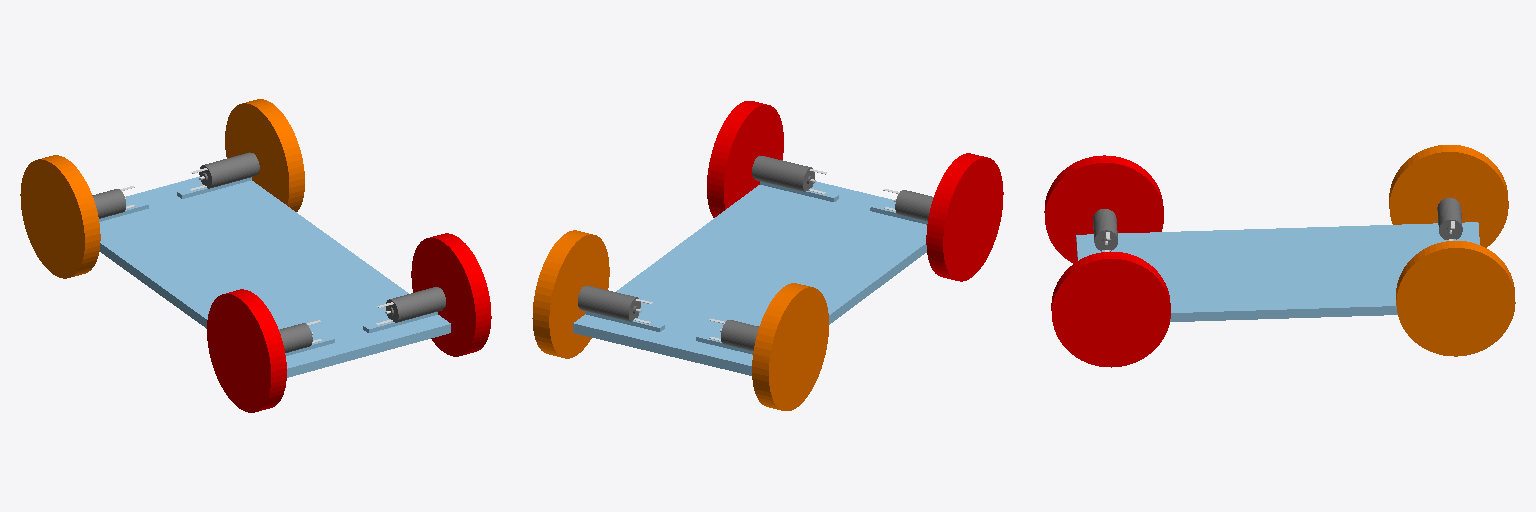
robot.urdf — embr_simple:
<!--URDF generated by ONSHAPE BY PTC INC, 1.219-->
<robot name="embr_simple">
    <link name="embr_simple_chasis">
        <inertial>
            <mass value="0.000102334" />
            <origin xyz="0.00208133 6.46649e-20 0.00256191" rpy="0 -0 0" />
            <inertia ixx="3.57052e-07" ixy="0" ixz="0" iyy="8.47398e-08" iyz="0" izz="4.41326e-07" />
        </inertial>
        <visual>
            <origin xyz="0 0 0" rpy="0 -0 0" />
            <geometry>
                <mesh filename="package://embr_description/meshes/embr_simple/meshes/EMBR_Simple_Chasis.stl" scale="1 1 1" />
            </geometry>
            <material name="0.615686_0.811765_0.929412_0.000000_0.000000">
                <color rgba="0.615686 0.811765 0.929412 1" />
            </material>
        </visual>
    </link>
    <link name="maxon_body">
        <inertial>
            <mass value="3.13126e-06" />
            <origin xyz="-5.23054e-21 -0.0137337 1.44272e-19" rpy="0 -0 0" />
            <inertia ixx="2.28351e-10" ixy="0" ixz="0" iyy="5.57578e-11" iyz="0" izz="2.28351e-10" />
        </inertial>
        <visual>
            <origin xyz="0 -0.0133 -3.52086e-19" rpy="0 -0 0" />
            <geometry>
                <mesh filename="package://embr_description/meshes/embr_simple/meshes/Maxon_Body.stl" scale="1 1 1" />
            </geometry>
            <material name="0.501961_0.501961_0.501961_0.000000_0.000000">
                <color rgba="0.501961 0.501961 0.501961 1" />
            </material>
        </visual>
    </link>
    <link name="maxon_body_1">
        <inertial>
            <mass value="3.13126e-06" />
            <origin xyz="-5.23054e-21 -0.0137337 1.44272e-19" rpy="0 -0 0" />
            <inertia ixx="2.28351e-10" ixy="0" ixz="0" iyy="5.57578e-11" iyz="0" izz="2.28351e-10" />
        </inertial>
        <visual>
            <origin xyz="0 -0.0133 -3.52086e-19" rpy="0 -0 0" />
            <geometry>
                <mesh filename="package://embr_description/meshes/embr_simple/meshes/Maxon_Body.stl" scale="1 1 1" />
            </geometry>
            <material name="0.501961_0.501961_0.501961_0.000000_0.000000">
                <color rgba="0.501961 0.501961 0.501961 1" />
            </material>
        </visual>
    </link>
    <link name="maxon_body_2">
        <inertial>
            <mass value="3.13126e-06" />
            <origin xyz="-5.23054e-21 -0.0137337 1.44272e-19" rpy="0 -0 0" />
            <inertia ixx="2.28351e-10" ixy="0" ixz="0" iyy="5.57578e-11" iyz="0" izz="2.28351e-10" />
        </inertial>
        <visual>
            <origin xyz="0 -0.0133 -3.52086e-19" rpy="0 -0 0" />
            <geometry>
                <mesh filename="package://embr_description/meshes/embr_simple/meshes/Maxon_Body.stl" scale="1 1 1" />
            </geometry>
            <material name="0.501961_0.501961_0.501961_0.000000_0.000000">
                <color rgba="0.501961 0.501961 0.501961 1" />
            </material>
        </visual>
    </link>
    <link name="maxon_body_3">
        <inertial>
            <mass value="3.13126e-06" />
            <origin xyz="-5.23054e-21 -0.0137337 1.44272e-19" rpy="0 -0 0" />
            <inertia ixx="2.28351e-10" ixy="0" ixz="0" iyy="5.57578e-11" iyz="0" izz="2.28351e-10" />
        </inertial>
        <visual>
            <origin xyz="0 -0.0133 -3.52086e-19" rpy="0 -0 0" />
            <geometry>
                <mesh filename="package://embr_description/meshes/embr_simple/meshes/Maxon_Body.stl" scale="1 1 1" />
            </geometry>
            <material name="0.501961_0.501961_0.501961_0.000000_0.000000">
                <color rgba="0.501961 0.501961 0.501961 1" />
            </material>
        </visual>
    </link>
    <link name="maxon_shaft">
        <inertial>
            <mass value="7.23207e-08" />
            <origin xyz="-3.60766e-07 -0.0204633 6.54155e-07" rpy="0 1.34048 0" />
            <inertia ixx="1.01063e-11" ixy="0" ixz="0" iyy="2.03495e-14" iyz="0" izz="1.01063e-11" />
        </inertial>
        <visual>
            <origin xyz="-8.85289e-19 -0.0206 -2.07583e-19" rpy="0 1.34048 0" />
            <geometry>
                <mesh filename="package://embr_description/meshes/embr_simple/meshes/Maxon_Shaft.stl" scale="1 1 1" />
            </geometry>
            <material name="0.901961_0.901961_0.901961_0.000000_0.000000">
                <color rgba="0.901961 0.901961 0.901961 1" />
            </material>
        </visual>
    </link>
    <link name="maxon_shaft_1">
        <inertial>
            <mass value="7.23207e-08" />
            <origin xyz="-3.60766e-07 -0.0204633 6.54155e-07" rpy="0 1.34048 0" />
            <inertia ixx="1.01063e-11" ixy="0" ixz="0" iyy="2.03495e-14" iyz="0" izz="1.01063e-11" />
        </inertial>
        <visual>
            <origin xyz="-8.85289e-19 -0.0206 -2.07583e-19" rpy="0 1.34048 0" />
            <geometry>
                <mesh filename="package://embr_description/meshes/embr_simple/meshes/Maxon_Shaft.stl" scale="1 1 1" />
            </geometry>
            <material name="0.901961_0.901961_0.901961_0.000000_0.000000">
                <color rgba="0.901961 0.901961 0.901961 1" />
            </material>
        </visual>
    </link>
    <link name="maxon_shaft_2">
        <inertial>
            <mass value="7.23207e-08" />
            <origin xyz="-3.60766e-07 -0.0204633 6.54155e-07" rpy="0 1.34048 0" />
            <inertia ixx="1.01063e-11" ixy="0" ixz="0" iyy="2.03495e-14" iyz="0" izz="1.01063e-11" />
        </inertial>
        <visual>
            <origin xyz="-8.85289e-19 -0.0206 -2.07583e-19" rpy="0 1.34048 0" />
            <geometry>
                <mesh filename="package://embr_description/meshes/embr_simple/meshes/Maxon_Shaft.stl" scale="1 1 1" />
            </geometry>
            <material name="0.901961_0.901961_0.901961_0.000000_0.000000">
                <color rgba="0.901961 0.901961 0.901961 1" />
            </material>
        </visual>
    </link>
    <link name="maxon_shaft_3">
        <inertial>
            <mass value="7.23207e-08" />
            <origin xyz="-3.60766e-07 -0.0204633 6.54155e-07" rpy="0 1.34048 0" />
            <inertia ixx="1.01063e-11" ixy="0" ixz="0" iyy="2.03495e-14" iyz="0" izz="1.01063e-11" />
        </inertial>
        <visual>
            <origin xyz="-8.85289e-19 -0.0206 -2.07583e-19" rpy="0 1.34048 0" />
            <geometry>
                <mesh filename="package://embr_description/meshes/embr_simple/meshes/Maxon_Shaft.stl" scale="1 1 1" />
            </geometry>
            <material name="0.901961_0.901961_0.901961_0.000000_0.000000">
                <color rgba="0.901961 0.901961 0.901961 1" />
            </material>
        </visual>
    </link>
    <link name="maxon_tab_left">
        <inertial>
            <mass value="3.48e-09" />
            <origin xyz="0.0001 0.00435 3.25261e-19" rpy="0 -0 0" />
            <inertia ixx="2.31101e-14" ixy="0" ixz="0" iyy="1.1716e-15" iyz="0" izz="2.19617e-14" />
        </inertial>
        <visual>
            <origin xyz="0.0047 -0.0133 3.25261e-19" rpy="0 -0 0" />
            <geometry>
                <mesh filename="package://embr_description/meshes/embr_simple/meshes/Maxon_Tab_Left.stl" scale="1 1 1" />
            </geometry>
            <material name="0.917647_0.917647_0.917647_0.000000_0.000000">
                <color rgba="0.917647 0.917647 0.917647 1" />
            </material>
        </visual>
    </link>
    <link name="maxon_tab_left_1">
        <inertial>
            <mass value="3.48e-09" />
            <origin xyz="0.0001 0.00435 3.25261e-19" rpy="0 -0 0" />
            <inertia ixx="2.31101e-14" ixy="0" ixz="0" iyy="1.1716e-15" iyz="0" izz="2.19617e-14" />
        </inertial>
        <visual>
            <origin xyz="0.0047 -0.0133 3.25261e-19" rpy="0 -0 0" />
            <geometry>
                <mesh filename="package://embr_description/meshes/embr_simple/meshes/Maxon_Tab_Left.stl" scale="1 1 1" />
            </geometry>
            <material name="0.917647_0.917647_0.917647_0.000000_0.000000">
                <color rgba="0.917647 0.917647 0.917647 1" />
            </material>
        </visual>
    </link>
    <link name="maxon_tab_left_2">
        <inertial>
            <mass value="3.48e-09" />
            <origin xyz="0.0001 0.00435 3.25261e-19" rpy="0 -0 0" />
            <inertia ixx="2.31101e-14" ixy="0" ixz="0" iyy="1.1716e-15" iyz="0" izz="2.19617e-14" />
        </inertial>
        <visual>
            <origin xyz="0.0047 -0.0133 3.25261e-19" rpy="0 -0 0" />
            <geometry>
                <mesh filename="package://embr_description/meshes/embr_simple/meshes/Maxon_Tab_Left.stl" scale="1 1 1" />
            </geometry>
            <material name="0.917647_0.917647_0.917647_0.000000_0.000000">
                <color rgba="0.917647 0.917647 0.917647 1" />
            </material>
        </visual>
    </link>
    <link name="maxon_tab_left_3">
        <inertial>
            <mass value="3.48e-09" />
            <origin xyz="0.0001 0.00435 3.25261e-19" rpy="0 -0 0" />
            <inertia ixx="2.31101e-14" ixy="0" ixz="0" iyy="1.1716e-15" iyz="0" izz="2.19617e-14" />
        </inertial>
        <visual>
            <origin xyz="0.0047 -0.0133 3.25261e-19" rpy="0 -0 0" />
            <geometry>
                <mesh filename="package://embr_description/meshes/embr_simple/meshes/Maxon_Tab_Left.stl" scale="1 1 1" />
            </geometry>
            <material name="0.917647_0.917647_0.917647_0.000000_0.000000">
                <color rgba="0.917647 0.917647 0.917647 1" />
            </material>
        </visual>
    </link>
    <link name="maxon_tab_right">
        <inertial>
            <mass value="3.48e-09" />
            <origin xyz="-0.0001 0.00435 0.001" rpy="0 -0 0" />
            <inertia ixx="2.31101e-14" ixy="0" ixz="0" iyy="1.1716e-15" iyz="0" izz="2.19617e-14" />
        </inertial>
        <visual>
            <origin xyz="-0.0047 -0.0133 0.001" rpy="0 -0 0" />
            <geometry>
                <mesh filename="package://embr_description/meshes/embr_simple/meshes/Maxon_Tab_Right.stl" scale="1 1 1" />
            </geometry>
            <material name="0.917647_0.917647_0.917647_0.000000_0.000000">
                <color rgba="0.917647 0.917647 0.917647 1" />
            </material>
        </visual>
    </link>
    <link name="maxon_tab_right_1">
        <inertial>
            <mass value="3.48e-09" />
            <origin xyz="-0.0001 0.00435 0.001" rpy="0 -0 0" />
            <inertia ixx="2.31101e-14" ixy="0" ixz="0" iyy="1.1716e-15" iyz="0" izz="2.19617e-14" />
        </inertial>
        <visual>
            <origin xyz="-0.0047 -0.0133 0.001" rpy="0 -0 0" />
            <geometry>
                <mesh filename="package://embr_description/meshes/embr_simple/meshes/Maxon_Tab_Right.stl" scale="1 1 1" />
            </geometry>
            <material name="0.917647_0.917647_0.917647_0.000000_0.000000">
                <color rgba="0.917647 0.917647 0.917647 1" />
            </material>
        </visual>
    </link>
    <link name="maxon_tab_right_2">
        <inertial>
            <mass value="3.48e-09" />
            <origin xyz="-0.0001 0.00435 0.001" rpy="0 -0 0" />
            <inertia ixx="2.31101e-14" ixy="0" ixz="0" iyy="1.1716e-15" iyz="0" izz="2.19617e-14" />
        </inertial>
        <visual>
            <origin xyz="-0.0047 -0.0133 0.001" rpy="0 -0 0" />
            <geometry>
                <mesh filename="package://embr_description/meshes/embr_simple/meshes/Maxon_Tab_Right.stl" scale="1 1 1" />
            </geometry>
            <material name="0.917647_0.917647_0.917647_0.000000_0.000000">
                <color rgba="0.917647 0.917647 0.917647 1" />
            </material>
        </visual>
    </link>
    <link name="maxon_tab_right_3">
        <inertial>
            <mass value="3.48e-09" />
            <origin xyz="-0.0001 0.00435 0.001" rpy="0 -0 0" />
            <inertia ixx="2.31101e-14" ixy="0" ixz="0" iyy="1.1716e-15" iyz="0" izz="2.19617e-14" />
        </inertial>
        <visual>
            <origin xyz="-0.0047 -0.0133 0.001" rpy="0 -0 0" />
            <geometry>
                <mesh filename="package://embr_description/meshes/embr_simple/meshes/Maxon_Tab_Right.stl" scale="1 1 1" />
            </geometry>
            <material name="0.917647_0.917647_0.917647_0.000000_0.000000">
                <color rgba="0.917647 0.917647 0.917647 1" />
            </material>
        </visual>
    </link>
    <link name="root" />
    <link name="wheel">
        <inertial>
            <mass value="2.54469e-05" />
            <origin xyz="-2.99577e-19 0.0045 7.78294e-19" rpy="0 -0 0" />
            <inertia ixx="5.89732e-09" ixy="0" ixz="0" iyy="1.14511e-08" iyz="0" izz="5.89732e-09" />
        </inertial>
        <visual>
            <origin xyz="0 0.009 -1.83697e-18" rpy="0 -0 0" />
            <geometry>
                <mesh filename="package://embr_description/meshes/embr_simple/meshes/Wheel.stl" scale="1 1 1" />
            </geometry>
            <material name="back_wheel_orange">
                <color rgba="1 0.5 0 1" />
            </material>
        </visual>
    </link>
    <link name="wheel_1">
        <inertial>
            <mass value="2.54469e-05" />
            <origin xyz="-2.99577e-19 0.0045 7.78294e-19" rpy="0 -0 0" />
            <inertia ixx="5.89732e-09" ixy="0" ixz="0" iyy="1.14511e-08" iyz="0" izz="5.89732e-09" />
        </inertial>
        <visual>
            <origin xyz="0 0.009 -1.83697e-18" rpy="0 -0 0" />
            <geometry>
                <mesh filename="package://embr_description/meshes/embr_simple/meshes/Wheel.stl" scale="1 1 1" />
            </geometry>
            <material name="back_wheel_orange">
                <color rgba="1 0.5 0 1" />
            </material>
        </visual>
    </link>
    <link name="wheel_2">
        <inertial>
            <mass value="2.54469e-05" />
            <origin xyz="-2.99577e-19 0.0045 7.78294e-19" rpy="0 -0 0" />
            <inertia ixx="5.89732e-09" ixy="0" ixz="0" iyy="1.14511e-08" iyz="0" izz="5.89732e-09" />
        </inertial>
        <visual>
            <origin xyz="0 0.009 -1.83697e-18" rpy="0 -0 0" />
            <geometry>
                <mesh filename="package://embr_description/meshes/embr_simple/meshes/Wheel.stl" scale="1 1 1" />
            </geometry>
            <material name="front_wheel_red">
                <color rgba="1 0 0 1" />
            </material>
        </visual>
    </link>
    <link name="wheel_3">
        <inertial>
            <mass value="2.54469e-05" />
            <origin xyz="-2.99577e-19 0.0045 7.78294e-19" rpy="0 -0 0" />
            <inertia ixx="5.89732e-09" ixy="0" ixz="0" iyy="1.14511e-08" iyz="0" izz="5.89732e-09" />
        </inertial>
        <visual>
            <origin xyz="0 0.009 -1.83697e-18" rpy="0 -0 0" />
            <geometry>
                <mesh filename="package://embr_description/meshes/embr_simple/meshes/Wheel.stl" scale="1 1 1" />
            </geometry>
            <material name="front_wheel_red">
                <color rgba="1 0 0 1" />
            </material>
        </visual>
    </link>
    <joint name="fastened_1" type="fixed">
        <origin xyz="-0.0225927 0.0867344 0.0122" rpy="0 -1.5708 -1.5708" />
        <axis xyz="0 1 0" />
        <parent link="embr_simple_chasis" />
        <child link="maxon_body_3" />
    </joint>
    <joint name="fastened_2" type="fixed">
        <origin xyz="0.0267554 0.0867344 0.0122" rpy="0 -1.5708 1.5708" />
        <axis xyz="0 1 0" />
        <parent link="embr_simple_chasis" />
        <child link="maxon_body_2" />
    </joint>
    <joint name="fastened_3" type="fixed">
        <origin xyz="0.0267554 -0.0867344 0.0122" rpy="0 -1.5708 1.5708" />
        <axis xyz="0 1 0" />
        <parent link="embr_simple_chasis" />
        <child link="maxon_body_1" />
    </joint>
    <joint name="fastened_4" type="fixed">
        <origin xyz="-0.0225927 -0.0867344 0.0122" rpy="0 -1.5708 -1.5708" />
        <axis xyz="0 1 0" />
        <parent link="embr_simple_chasis" />
        <child link="maxon_body" />
    </joint>
    <joint name="fixed_node_to_root_joint" type="fixed">
        <origin xyz="-0.0521915 0.198476 -0.0944215" rpy="-0.0211084 0.0124172 -3.11206" />
        <axis xyz="0 0 1" />
        <parent link="root" />
        <child link="embr_simple_chasis" />
    </joint>
    <joint name="left_tab_fastener" type="fixed">
        <origin xyz="-0.005 0 1.11022e-16" rpy="3.55889e-16 -3.90486e-15 -1.7434e-16" />
        <axis xyz="0 -1 0" />
        <parent link="maxon_body_1" />
        <child link="maxon_tab_left_1" />
    </joint>
    <joint name="left_tab_fastener_1" type="fixed">
        <origin xyz="-0.005 -6.93889e-18 -5.55112e-17" rpy="5.47522e-16 2.1684e-16 1.13624e-16" />
        <axis xyz="0 -1 0" />
        <parent link="maxon_body" />
        <child link="maxon_tab_left" />
    </joint>
    <joint name="left_tab_fastener_2" type="fixed">
        <origin xyz="-0.005 -1.38778e-17 4.16334e-17" rpy="-1.23274e-16 1.43982e-16 -7.97973e-17" />
        <axis xyz="0 -1 0" />
        <parent link="maxon_body_2" />
        <child link="maxon_tab_left_2" />
    </joint>
    <joint name="left_tab_fastener_3" type="fixed">
        <origin xyz="-0.005 -8.32667e-17 -1.38778e-17" rpy="1.11708e-15 -1.03043e-15 -6.245e-16" />
        <axis xyz="0 -1 0" />
        <parent link="maxon_body_3" />
        <child link="maxon_tab_left_3" />
    </joint>
    <joint name="right_tab_fastener" type="fixed">
        <origin xyz="0.005 4.16334e-17 0" rpy="3.55889e-16 -3.90486e-15 -1.7434e-16" />
        <axis xyz="0 -1 0" />
        <parent link="maxon_body_1" />
        <child link="maxon_tab_right_1" />
    </joint>
    <joint name="right_tab_fastener_1" type="fixed">
        <origin xyz="0.005 -6.93889e-18 -1.11022e-16" rpy="5.47522e-16 2.1684e-16 1.13624e-16" />
        <axis xyz="0 -1 0" />
        <parent link="maxon_body" />
        <child link="maxon_tab_right" />
    </joint>
    <joint name="right_tab_fastener_2" type="fixed">
        <origin xyz="0.005 0 4.16334e-17" rpy="-1.23274e-16 1.43982e-16 -7.97973e-17" />
        <axis xyz="0 -1 0" />
        <parent link="maxon_body_2" />
        <child link="maxon_tab_right_2" />
    </joint>
    <joint name="right_tab_fastener_3" type="fixed">
        <origin xyz="0.005 -1.04083e-16 -1.38778e-17" rpy="1.11708e-15 -1.03043e-15 -6.245e-16" />
        <axis xyz="0 -1 0" />
        <parent link="maxon_body_3" />
        <child link="maxon_tab_right_3" />
    </joint>
    <joint name="shaft_dof" type="continuous">
        <origin xyz="-2.77556e-17 -0.0376 1.11022e-16" rpy="-3.14159 1.52785 5.45973e-15" />
        <axis xyz="0 1 0" />
        <parent link="maxon_body_1" />
        <child link="maxon_shaft_1" />
    </joint>
    <joint name="shaft_dof_1" type="continuous">
        <origin xyz="-1.38778e-17 -0.0376 0" rpy="0 1.5708 3.14159" />
        <axis xyz="0 1 0" />
        <parent link="maxon_body" />
        <child link="maxon_shaft" />
    </joint>
    <joint name="shaft_dof_2" type="continuous">
        <origin xyz="0 -0.0376 4.16334e-17" rpy="3.14159 1.52785 -4.69359e-15" />
        <axis xyz="0 1 0" />
        <parent link="maxon_body_2" />
        <child link="maxon_shaft_2" />
    </joint>
    <joint name="shaft_dof_3" type="continuous">
        <origin xyz="-2.77556e-17 -0.0376 -1.38778e-17" rpy="0 1.5708 3.14159" />
        <axis xyz="0 1 0" />
        <parent link="maxon_body_3" />
        <child link="maxon_shaft_3" />
    </joint>
    <joint name="wheel_shaft" type="fixed">
        <origin xyz="5.55112e-17 0.001 -1.38778e-17" rpy="3.0271e-19 0.23032 -3.14159" />
        <axis xyz="0 -1 0" />
        <parent link="maxon_shaft_1" />
        <child link="wheel_1" />
    </joint>
    <joint name="wheel_shaft_1" type="fixed">
        <origin xyz="5.55112e-17 0.001 -1.38778e-17" rpy="-2.89829e-20 0.23032 3.14159" />
        <axis xyz="0 -1 0" />
        <parent link="maxon_shaft" />
        <child link="wheel" />
    </joint>
    <joint name="wheel_shaft_2" type="fixed">
        <origin xyz="0 0.001 1.38778e-17" rpy="-2.2294e-18 0.23032 3.14159" />
        <axis xyz="0 -1 0" />
        <parent link="maxon_shaft_2" />
        <child link="wheel_2" />
    </joint>
    <joint name="wheel_shaft_3" type="fixed">
        <origin xyz="-1.38778e-17 0.001 0" rpy="-9.24232e-19 0.23032 3.14159" />
        <axis xyz="0 -1 0" />
        <parent link="maxon_shaft_3" />
        <child link="wheel_3" />
    </joint>
</robot>

--- Facts derived from the render (not from the file) ---
3 views of the same robot in one strip: view 1: azimuth 30°, elevation 25°; view 2: azimuth 150°, elevation 25°; view 3: azimuth 270°, elevation 25° (orthographic).
Robot: embr_simple — 22 links, 21 joints (4 continuous, 17 fixed); root link root; default pose: every joint at zero.
Visible links, largest first — view 1: embr_simple_chasis, wheel_2, wheel_1, wheel_3, wheel, maxon_body_3, maxon_body, maxon_body_1, maxon_body_2; view 2: embr_simple_chasis, wheel_1, wheel_2, wheel, wheel_3, maxon_body_3, maxon_body, maxon_body_1, maxon_body_2; view 3: embr_simple_chasis, wheel_3, wheel, wheel_2, wheel_1, maxon_body_1, maxon_body_2.
Link boxes in pixels (x1=…): embr_simple_chasis: x1=99, y1=176, x2=450, y2=377; wheel_2: x1=207, y1=289, x2=286, y2=412; wheel_1: x1=20, y1=155, x2=100, y2=278; wheel_3: x1=411, y1=233, x2=491, y2=356; wheel: x1=225, y1=99, x2=304, y2=211; maxon_body_3: x1=386, y1=287, x2=445, y2=322; maxon_body: x1=199, y1=152, x2=259, y2=188; maxon_body_1: x1=92, y1=189, x2=125, y2=218; maxon_body_2: x1=279, y1=323, x2=312, y2=352; embr_simple_chasis: x1=573, y1=181, x2=927, y2=375; wheel_1: x1=752, y1=283, x2=828, y2=410; wheel_2: x1=926, y1=153, x2=1003, y2=281; wheel: x1=532, y1=230, x2=609, y2=358; wheel_3: x1=707, y1=101, x2=783, y2=217; maxon_body_3: x1=752, y1=156, x2=814, y2=191; maxon_body: x1=578, y1=285, x2=640, y2=321; maxon_body_1: x1=721, y1=320, x2=758, y2=350; maxon_body_2: x1=895, y1=190, x2=933, y2=221; embr_simple_chasis: x1=1076, y1=222, x2=1479, y2=321; wheel_3: x1=1051, y1=251, x2=1170, y2=367; wheel: x1=1396, y1=241, x2=1515, y2=356; wheel_2: x1=1044, y1=155, x2=1163, y2=263; wheel_1: x1=1389, y1=145, x2=1508, y2=247; maxon_body_1: x1=1437, y1=198, x2=1462, y2=239; maxon_body_2: x1=1093, y1=209, x2=1117, y2=250.
Size in the robot's own frame: 0.1336 by 0.237 by 0.0652 metres.
Meshes: 6 distinct files referenced, 21 mesh visuals loaded (6 binary STL).
